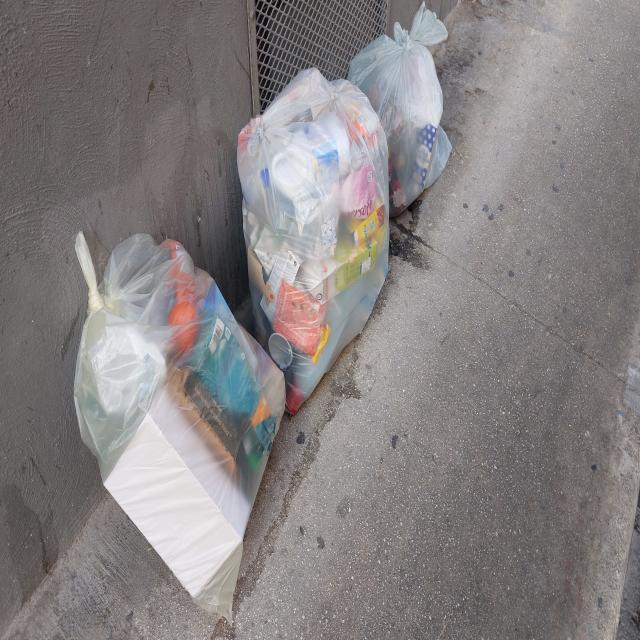Recycled Waste -Grey or Green Bag-: (63, 219, 288, 629), (234, 65, 394, 420), (347, 3, 457, 221)
